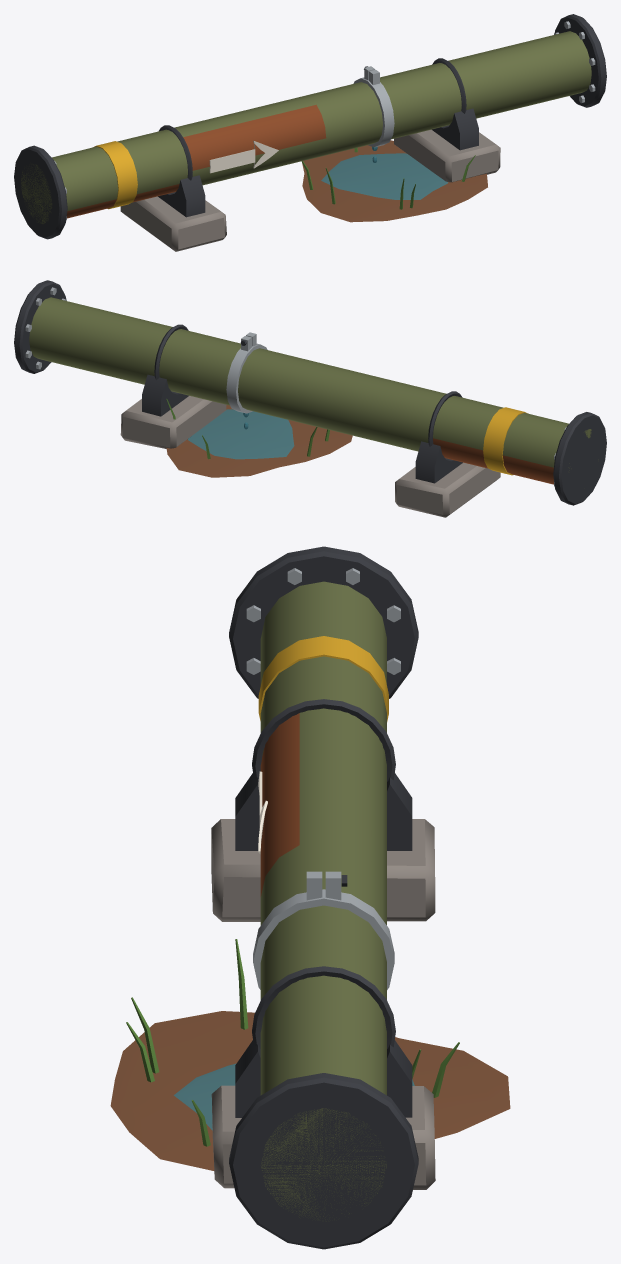
The model's file is deco_pipe_run.fbx.
The picture shows the model from 3 angles, top to bottom: view 1: azimuth 30°, elevation 25°; view 2: azimuth 150°, elevation 25°; view 3: azimuth 270°, elevation 25°; orthographic projection. The views are drawn at different scales.
Parts seen in each view (by area): view 1: Pipe_Run_Pipe, Pipe_Run_Supports, Pipe_Run_Puddle, Pipe_Run_Flanges; view 2: Pipe_Run_Pipe, Pipe_Run_Supports, Pipe_Run_Puddle, Pipe_Run_Flanges; view 3: Pipe_Run_Pipe, Pipe_Run_Flanges, Pipe_Run_Supports, Pipe_Run_Puddle.
Boxes of the visible parts, x1,y1,x2,y2 form: Pipe_Run_Pipe: [21, 31, 591, 223]; Pipe_Run_Supports: [120, 58, 500, 251]; Pipe_Run_Puddle: [301, 140, 487, 222]; Pipe_Run_Flanges: [14, 14, 606, 239]; Pipe_Run_Pipe: [29, 297, 598, 484]; Pipe_Run_Supports: [120, 324, 500, 517]; Pipe_Run_Puddle: [166, 399, 352, 477]; Pipe_Run_Flanges: [14, 280, 606, 505]; Pipe_Run_Pipe: [253, 581, 394, 1221]; Pipe_Run_Flanges: [229, 546, 418, 1249]; Pipe_Run_Supports: [211, 699, 435, 1189]; Pipe_Run_Puddle: [110, 939, 510, 1170].
Size of the model in its own units: 400 by 77.48 by 126.
